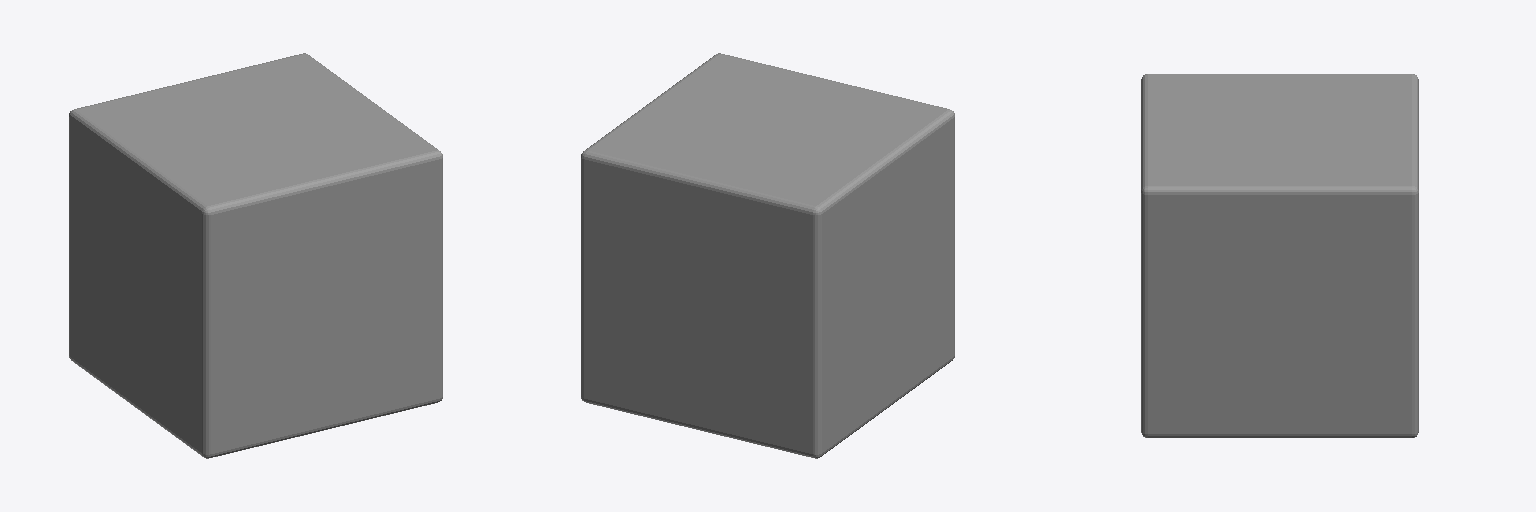
Rendered from ChamferedCube.obj.
3 views of the same model, side by side, from view 1: azimuth 30°, elevation 25°; view 2: azimuth 150°, elevation 25°; view 3: azimuth 270°, elevation 25° (orthographic).
Parts seen in each view (by area): view 1: Cube_Cube.002; view 2: Cube_Cube.002; view 3: Cube_Cube.002.
Part boxes in pixels (bbox=[...]): Cube_Cube.002: bbox=[69, 53, 442, 458]; Cube_Cube.002: bbox=[581, 53, 954, 458]; Cube_Cube.002: bbox=[1141, 74, 1418, 437].
Size of the model in its own units: 4 by 4 by 4.